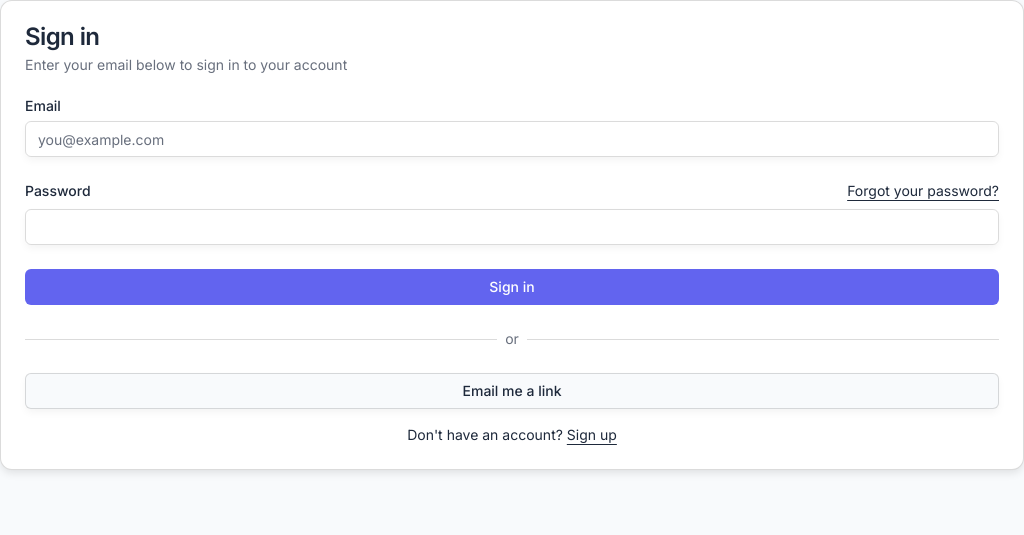
Test: LoginForm › should show an error when sign in fails
This screenshot has width=1024, height=535.
Type "test@example.com" into the field labelled "Email" at (512, 139), box x1=25 y1=121 x2=999 y2=157
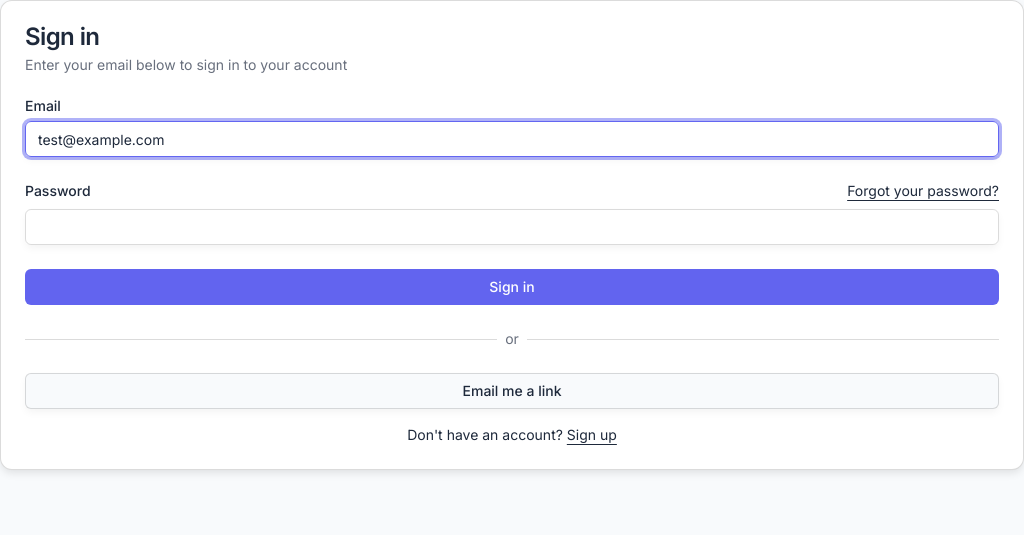
Type "wrong-password" into the password field labelled "Password" at (512, 227), box x1=25 y1=209 x2=999 y2=245
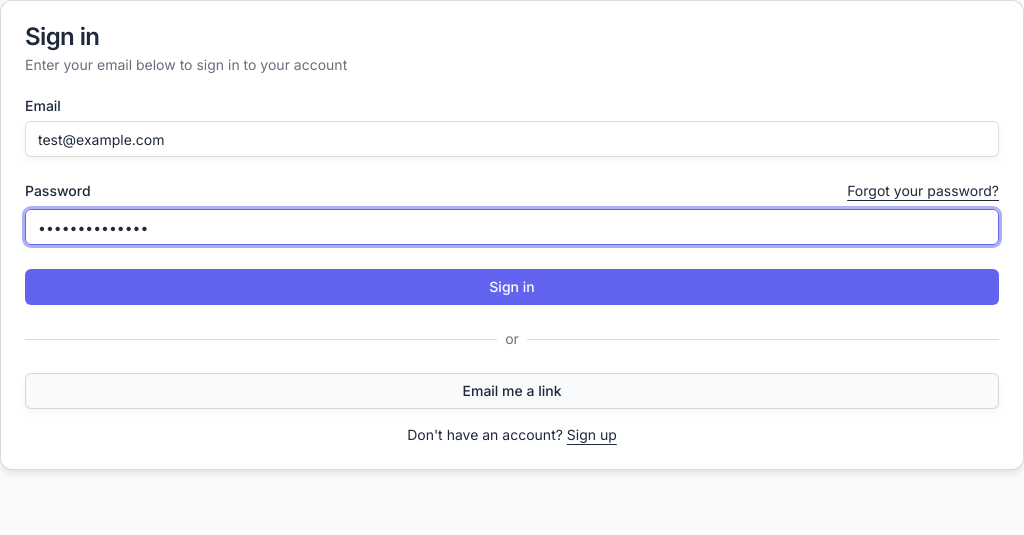
Click the button "Sign in" at (512, 287), box x1=25 y1=269 x2=999 y2=305
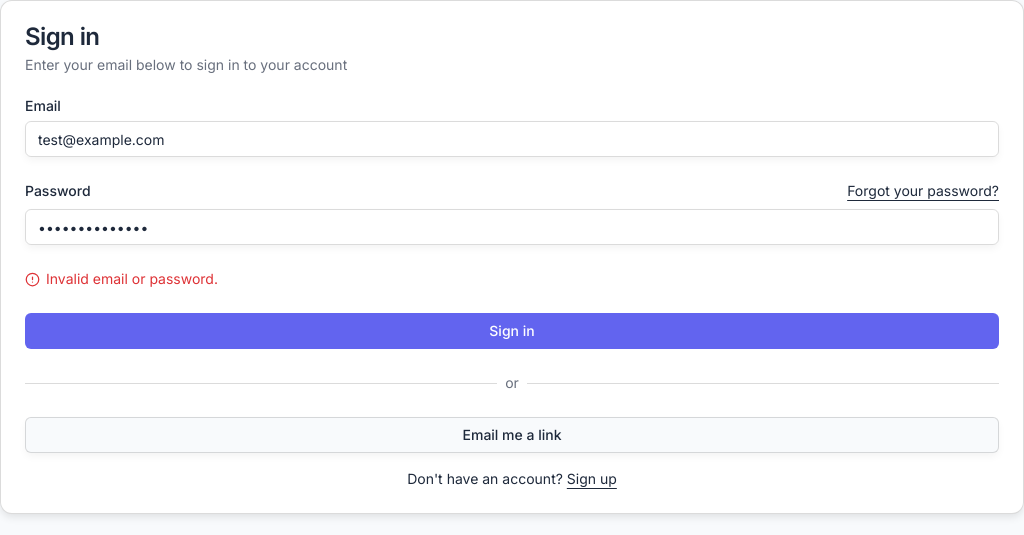
Result: the text "Invalid email or password." is shown at x1=25 y1=270 x2=218 y2=287
